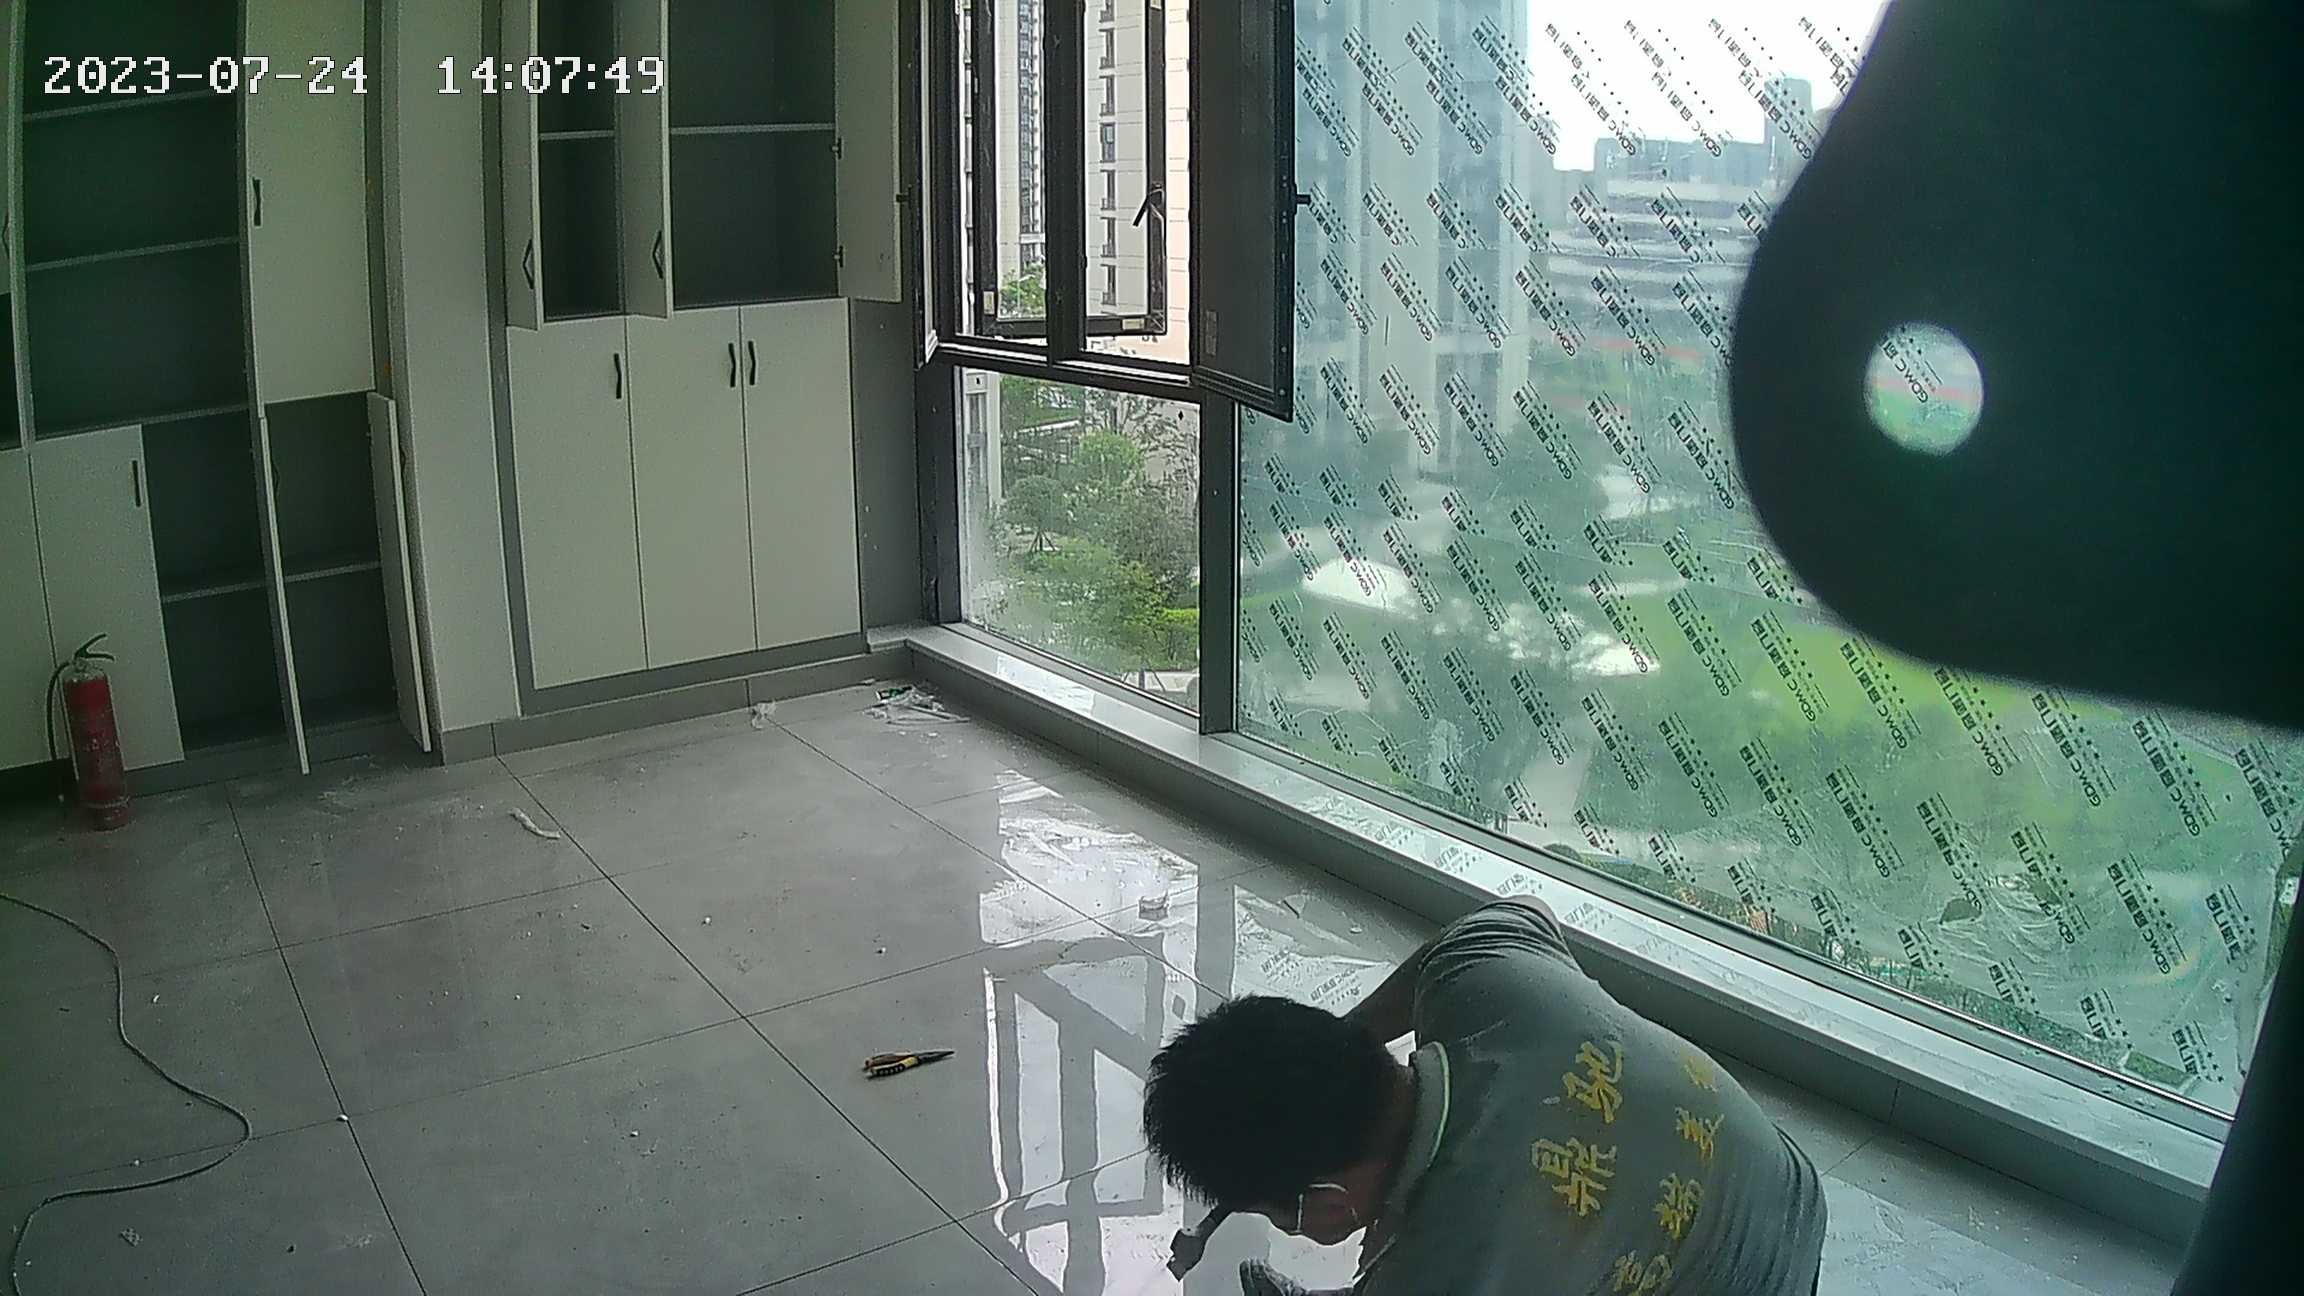people: (1136, 889, 1823, 1296)
window: (908, 2, 2304, 1156)
